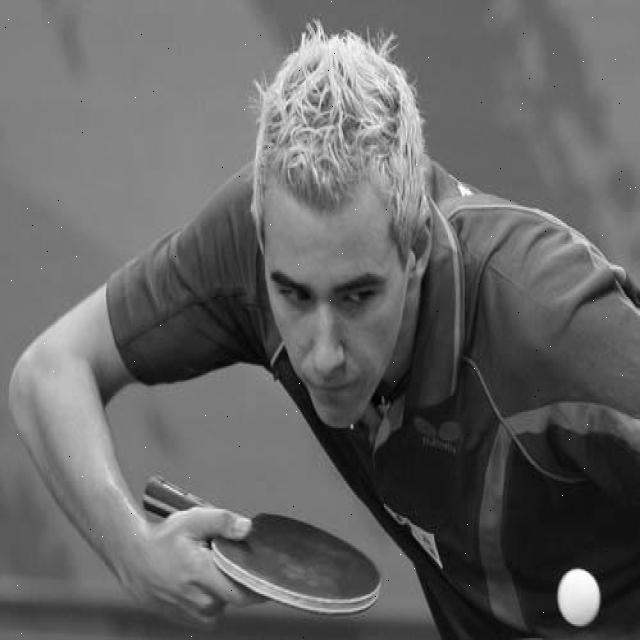ping-pong-ball: (558, 567, 602, 626)
